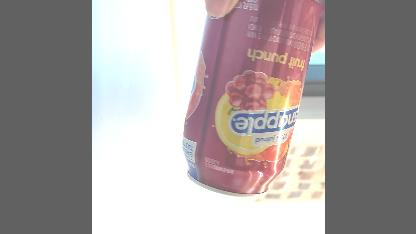Can: (164, 0, 324, 203)
